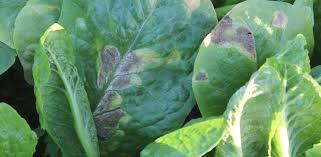Bok-Choy-Diseased: (87, 18, 155, 134), (198, 17, 277, 94)
